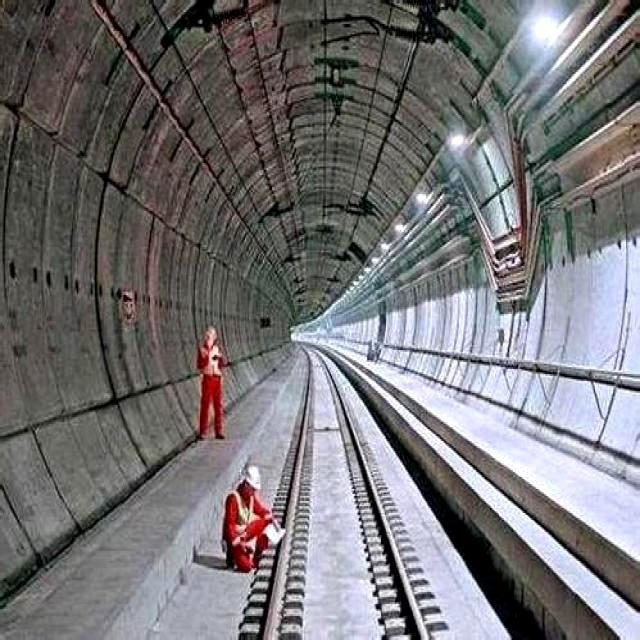hard_hat: (242, 463, 258, 489)
person: (223, 465, 283, 570)
